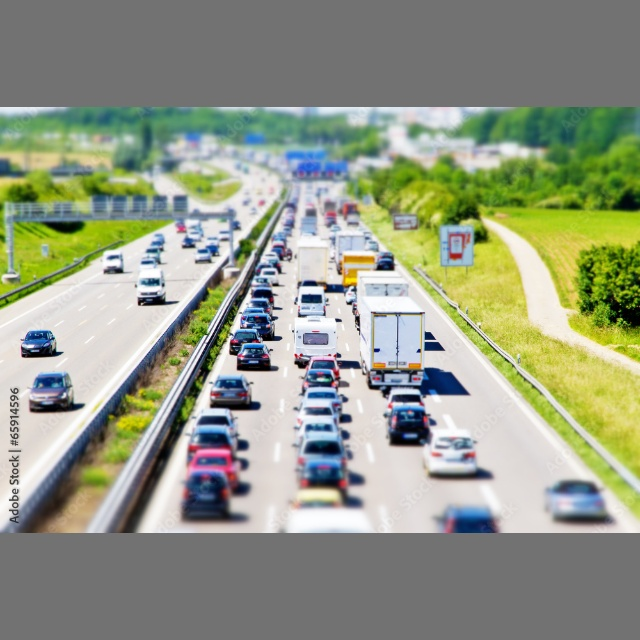Грузовик: (357, 295, 424, 385)
Легковой автомобиль: (28, 372, 72, 411), (212, 376, 249, 405), (235, 343, 270, 368), (21, 331, 56, 355)
Фургон: (138, 270, 163, 305)
